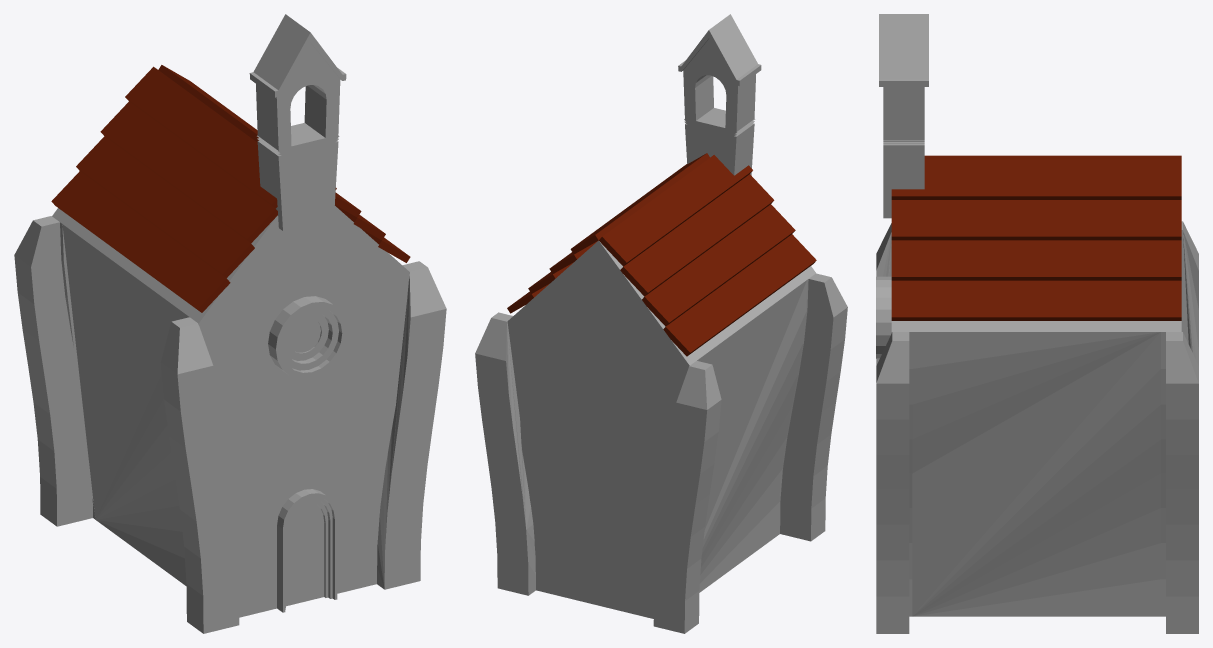
File: church.fbx
3 views of the same model, side by side, from view 1: azimuth 30°, elevation 25°; view 2: azimuth 150°, elevation 25°; view 3: azimuth 270°, elevation 25° (orthographic). The views are drawn at different scales.
Parts seen in each view (by area): view 1: polySurface11; view 2: polySurface11; view 3: polySurface11.
Part boxes in pixels (left/top/right/bottom): polySurface11: left=14, top=14, right=446, bottom=633; polySurface11: left=475, top=14, right=847, bottom=633; polySurface11: left=876, top=14, right=1198, bottom=633.
Size of the model in its own units: 7.41 by 15.11 by 7.79.
